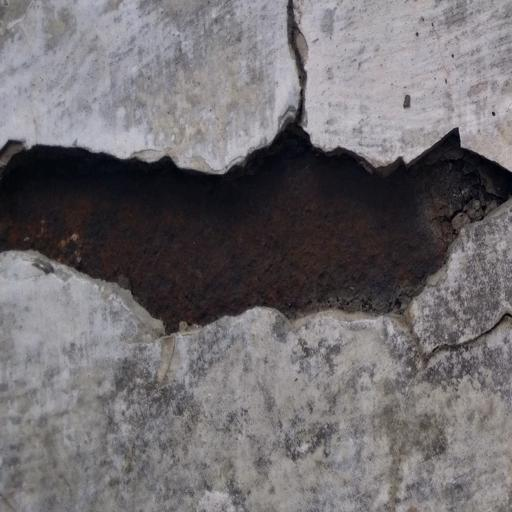spalling: (4, 86, 512, 376)
